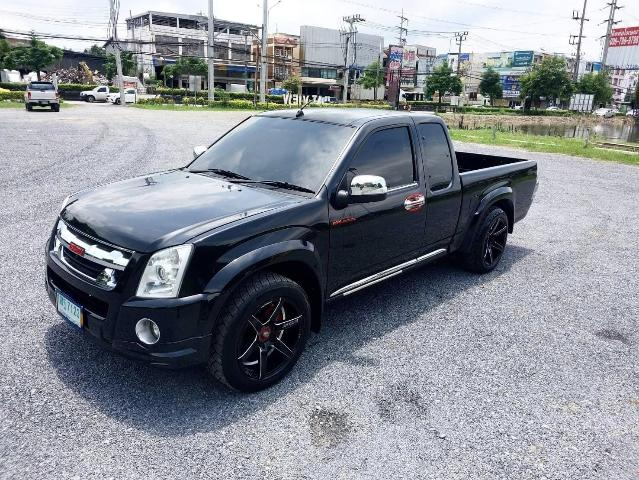pickup-truck: (42, 96, 542, 403)
